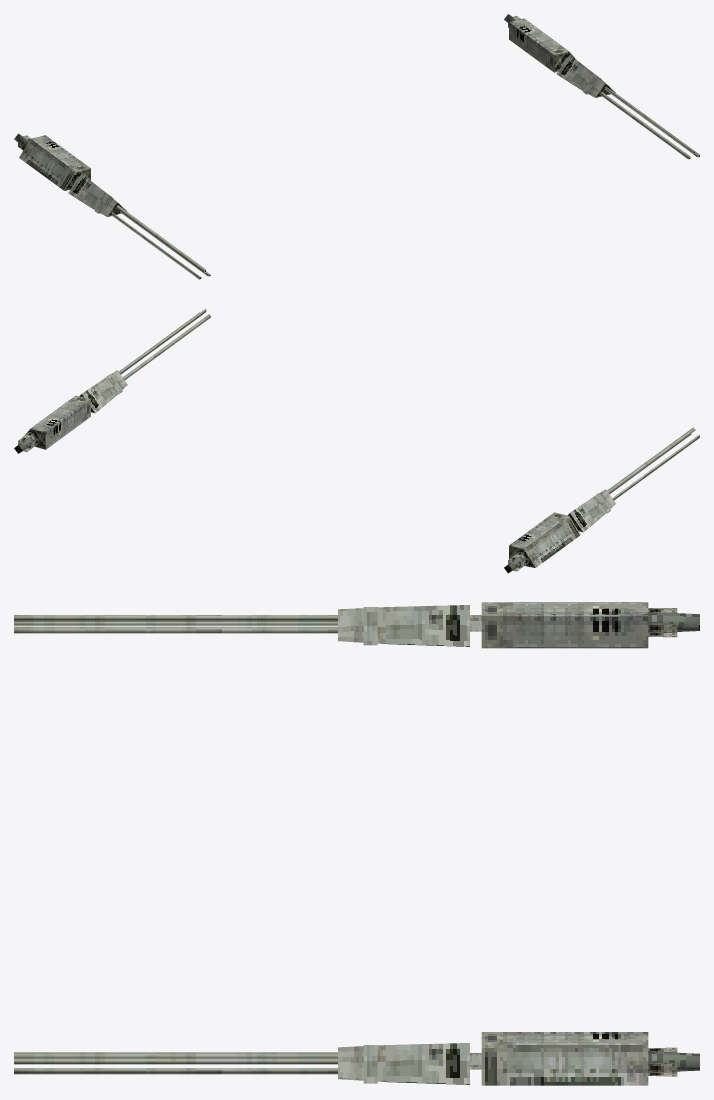
File: z95_weapon_s04_l2.fbx
The picture shows the model from 3 angles, top to bottom: view 1: azimuth 30°, elevation 25°; view 2: azimuth 150°, elevation 25°; view 3: azimuth 270°, elevation 25°; orthographic projection. The views are drawn at different scales.
Parts seen in each view (by area): view 1: mesh_node; view 2: mesh_node; view 3: mesh_node.
Boxes of the visible parts, x1,y1,x2,y2 form: mesh_node: (14,14,699,279); mesh_node: (14,309,699,573); mesh_node: (14,602,699,1085).
Bounding box in the file's own units: 14.48 × 0.4698 × 9.05.
1 material, 1 textured.
